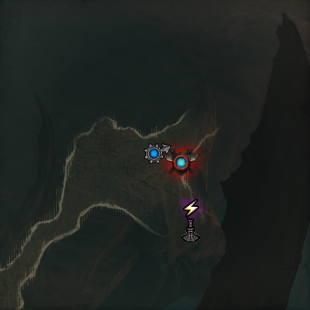ConduitPylon: (182, 196, 202, 242)
